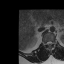CCS_normal: (48, 38, 50, 47)
LFS_normal: (52, 38, 54, 45)
LLS_normal: (50, 38, 52, 47)
RFS_normal: (44, 40, 46, 47)
RLS_normal: (46, 39, 48, 47)
